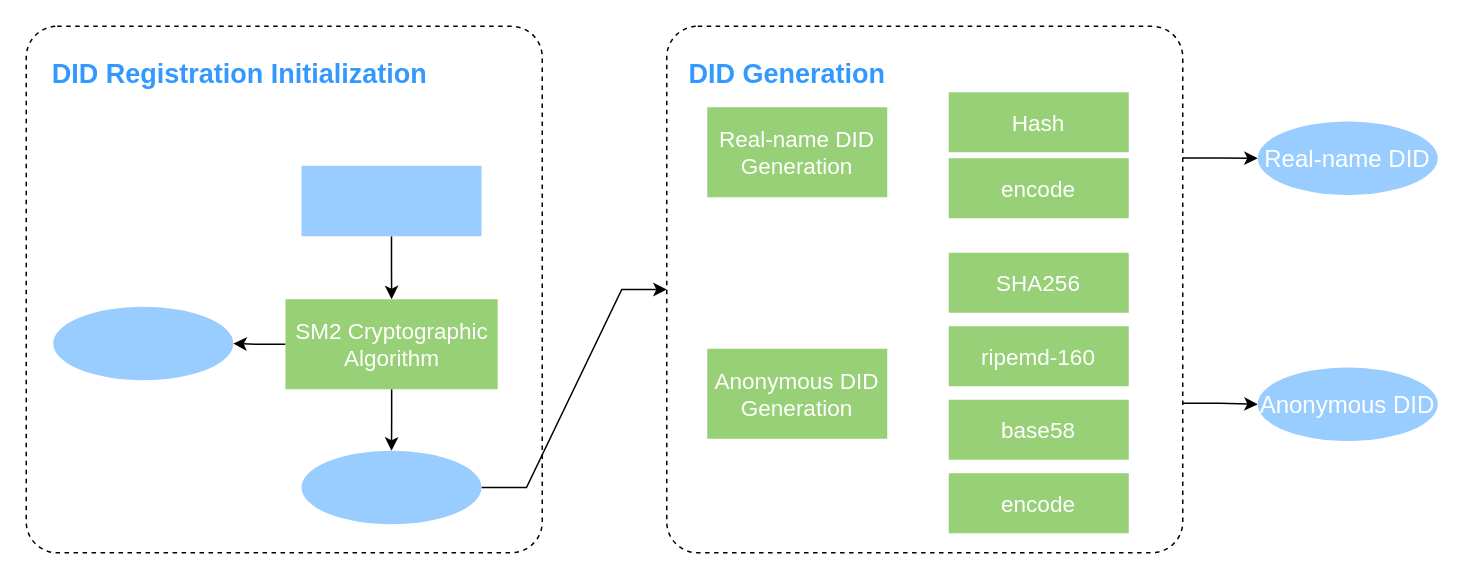
Image size: 1464x579. Some labels were removed from this diagram. The box of each missing label's shape, as (x1, y1, x2, y2) in pixels:
privateKey: (52, 306, 232, 380)
publicKey: (301, 450, 481, 524)
Start: (301, 165, 481, 236)
